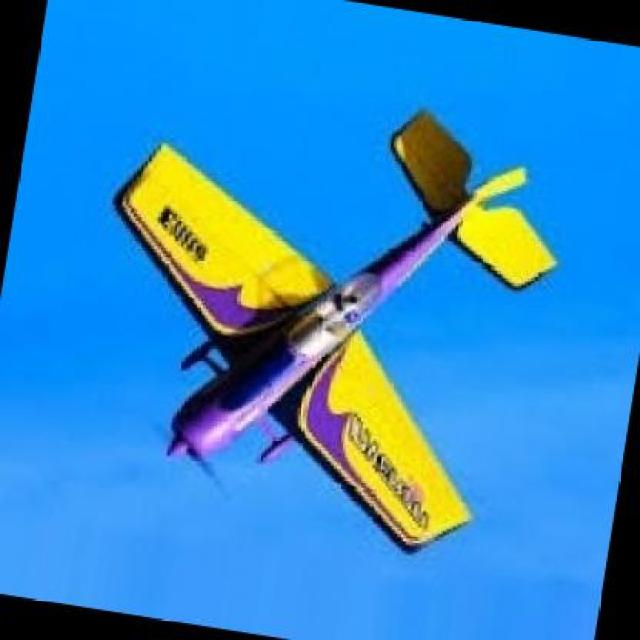iha: (85, 77, 564, 558)
